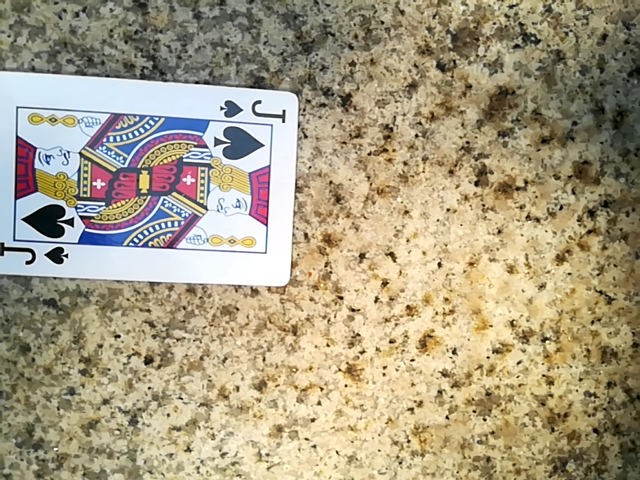ht j: (0, 69, 295, 284)
